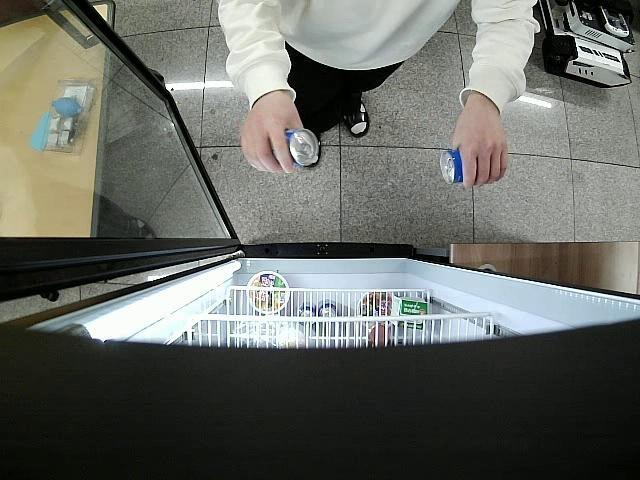15_letsbe: (284, 128, 321, 169), (438, 150, 478, 184)
